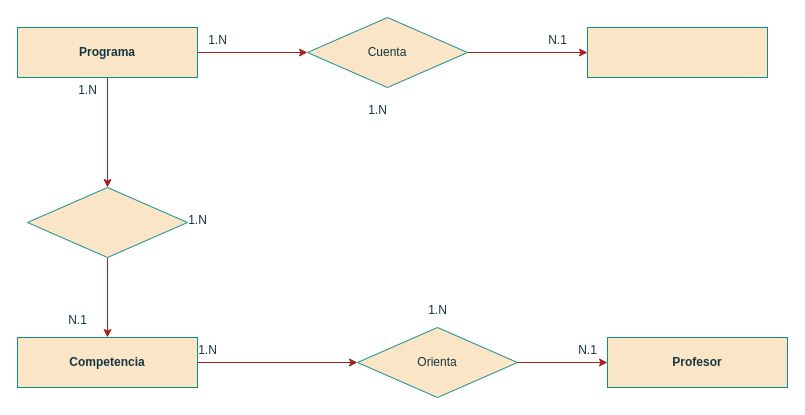
Image size: 805x415. Some labels were removed from this diagram. Each missing label, with the centre of its shape:
"Estudiante" belongs at point (677, 52).
"Incluye" belongs at point (107, 222).
